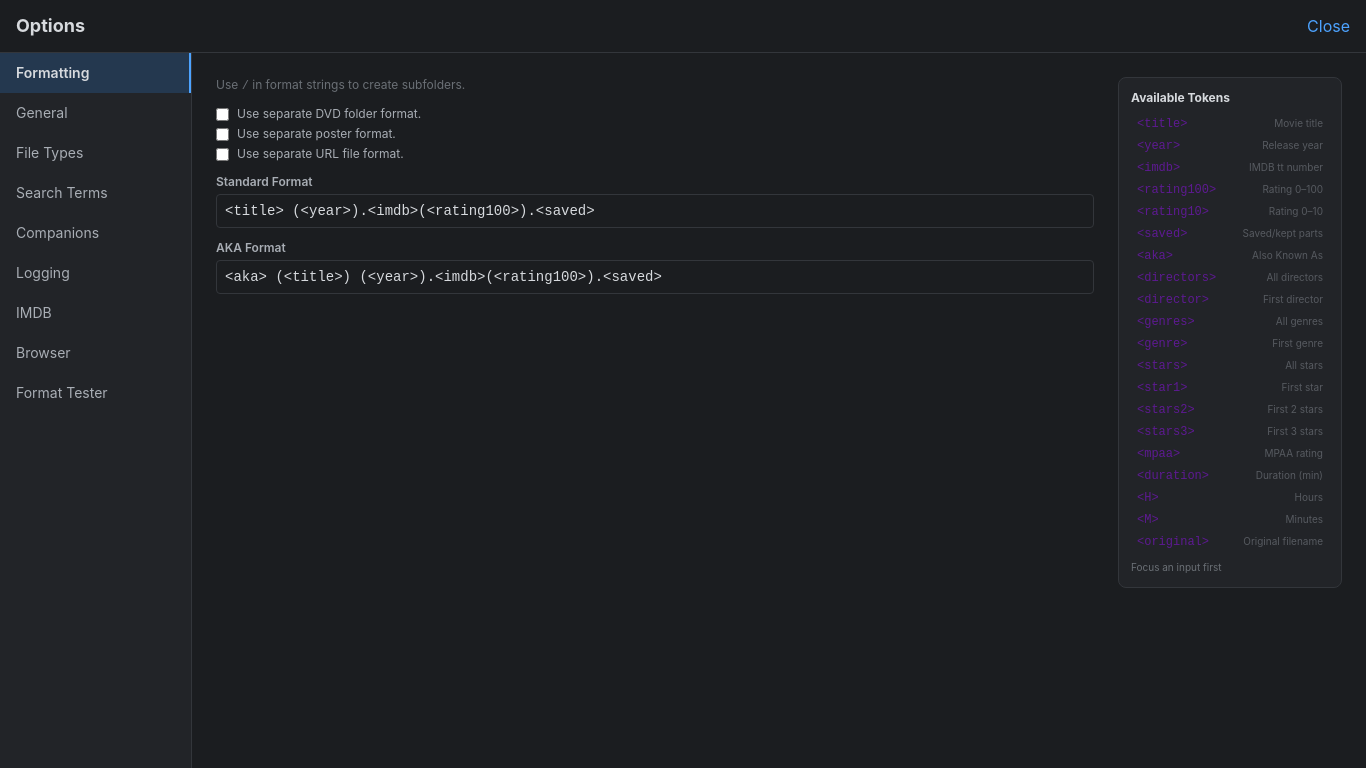
Test case: OptionsModal › switches section when sidebar item clicked
Click the button "General" at x=96, y=113, box [0,93,191,133]
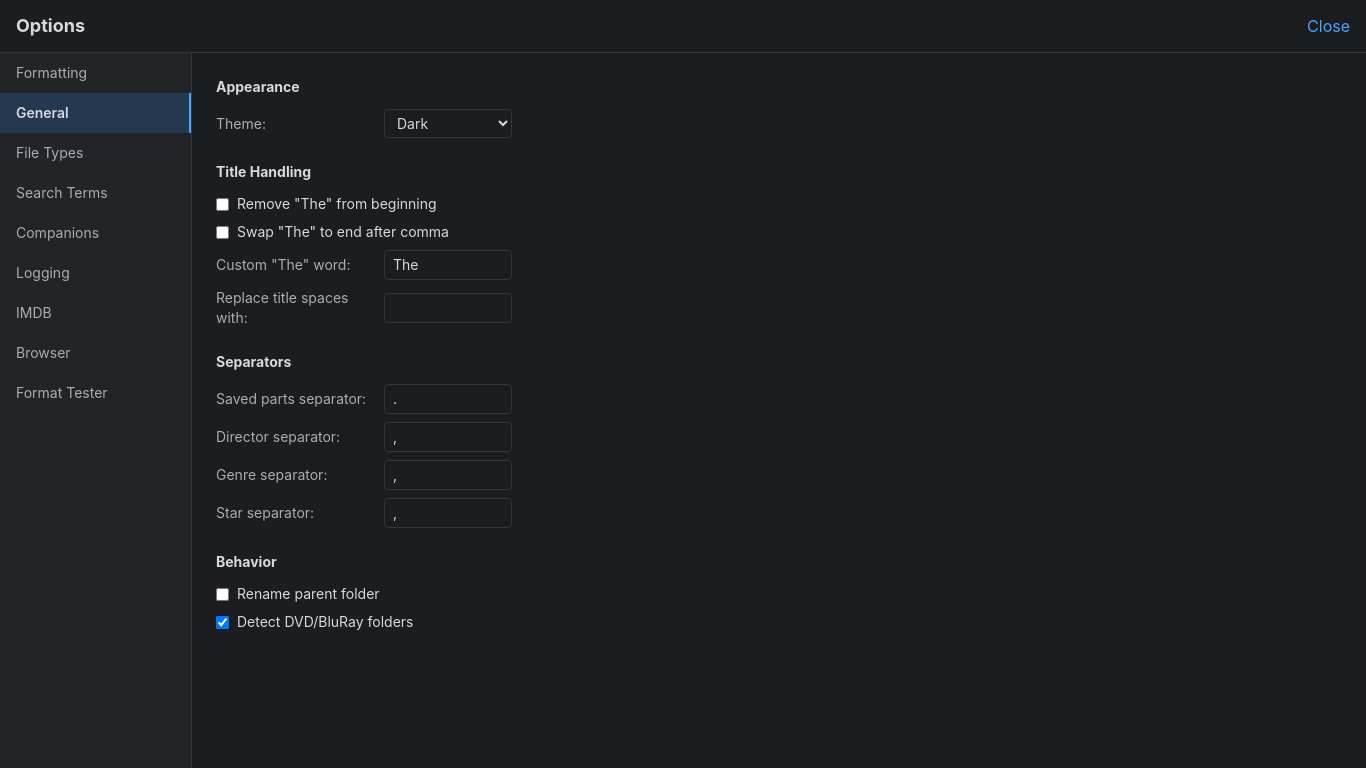
Expected: the element with test id "section-general" is shown, [216,78,512,630]
